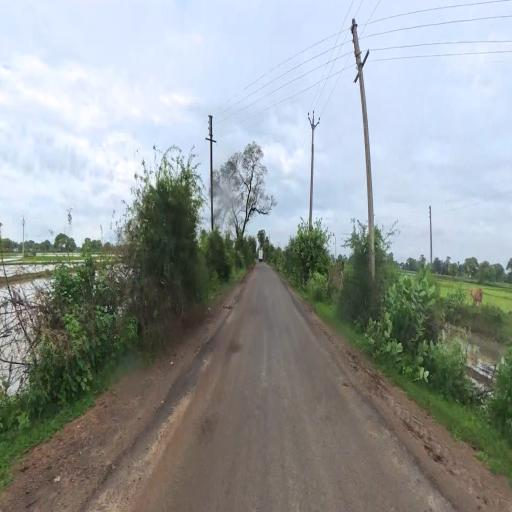alligator_crack: (207, 331, 265, 395), (191, 387, 232, 474)
